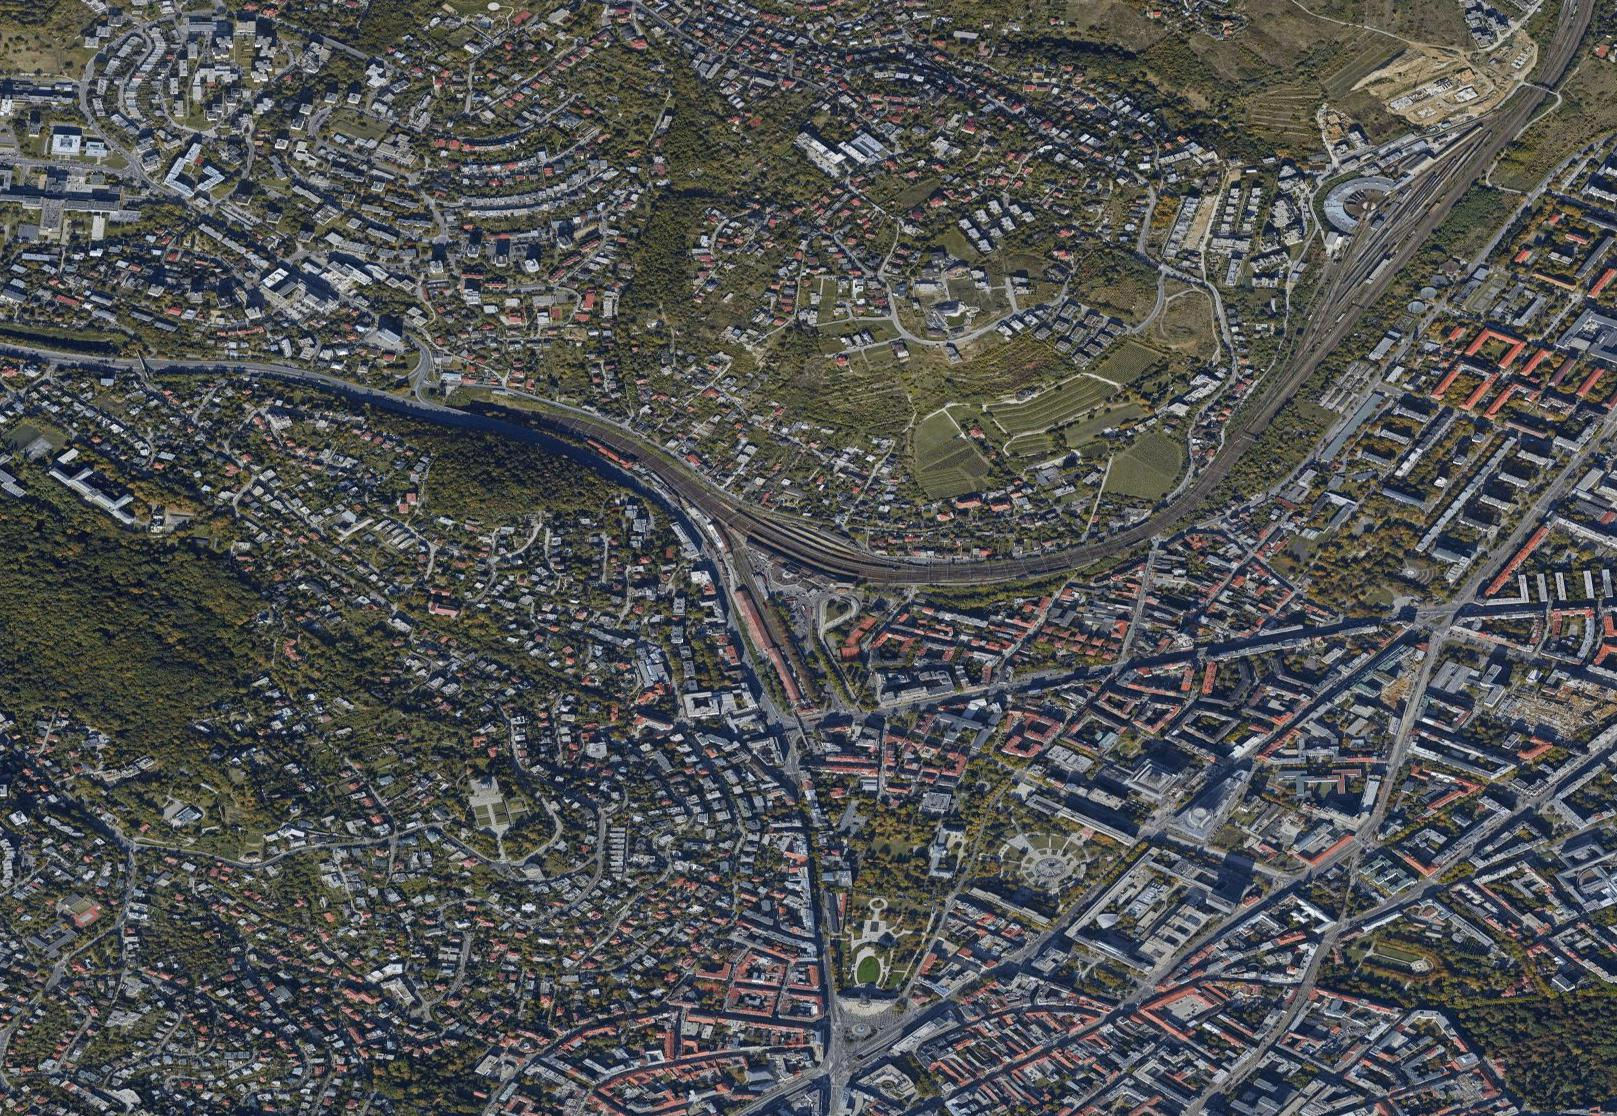train_station: (1327, 144, 1479, 307), (725, 499, 897, 603)
